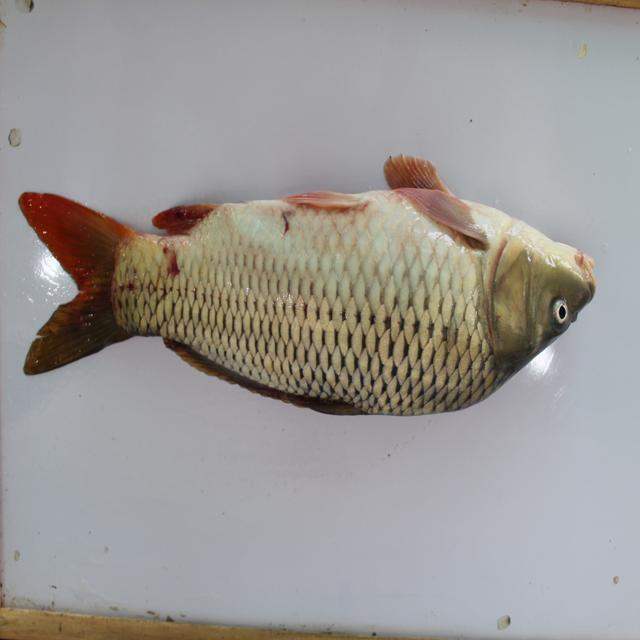Grass Carp: (17, 158, 602, 423)
